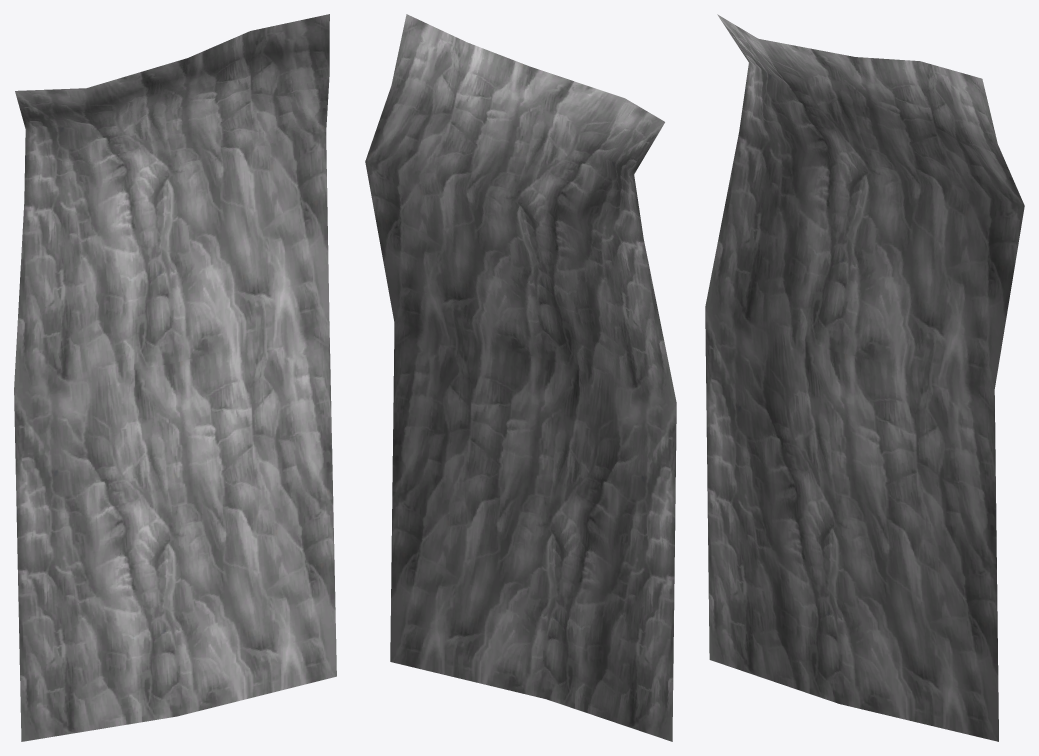
Rendered from SWORDLIGHT20_PS-AREA03_71.fbx.
3 renders of one model, left to right at view 1: azimuth 30°, elevation 25°; view 2: azimuth 150°, elevation 25°; view 3: azimuth 330°, elevation 25°, orthographic. The views are drawn at different scales.
Visible parts, largest first — view 1: SWORDLIGHT20_PS-AREA03_71; view 2: SWORDLIGHT20_PS-AREA03_71; view 3: SWORDLIGHT20_PS-AREA03_71.
Part boxes in pixels (x1,y1,x2,y2): SWORDLIGHT20_PS-AREA03_71: [14, 14, 336, 741]; SWORDLIGHT20_PS-AREA03_71: [365, 14, 676, 741]; SWORDLIGHT20_PS-AREA03_71: [705, 14, 1024, 741].
Bounding box in the file's own units: 75121 × 151502 × 14144.
1 material, 1 textured.
